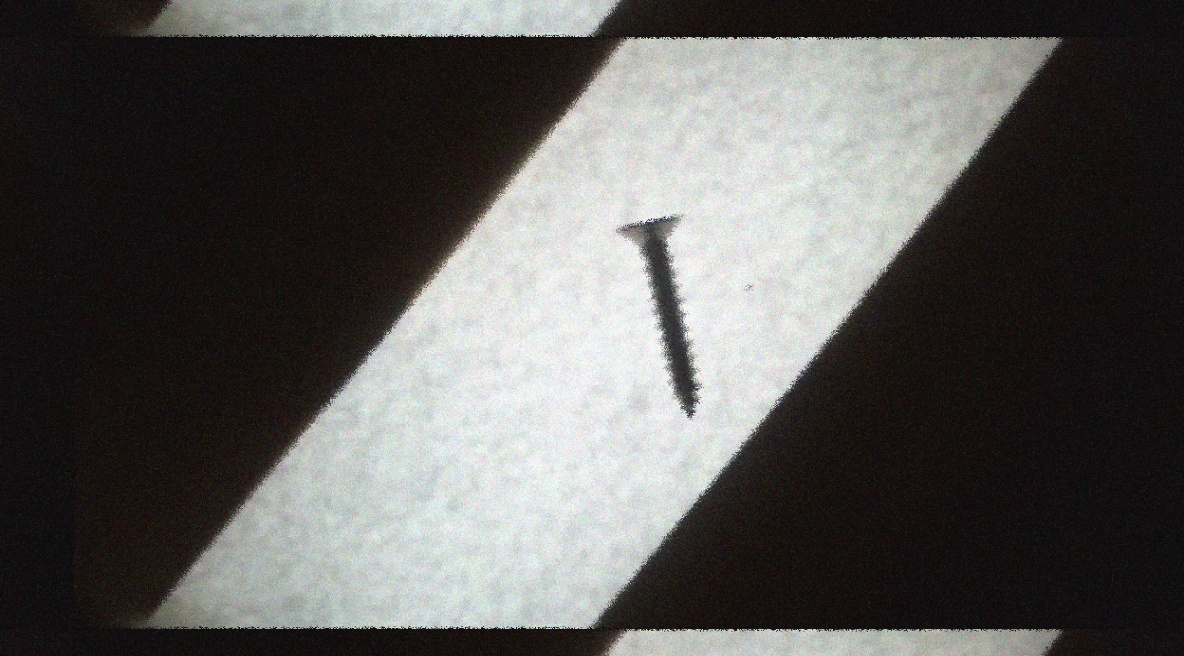S001: (592, 195, 737, 431)
